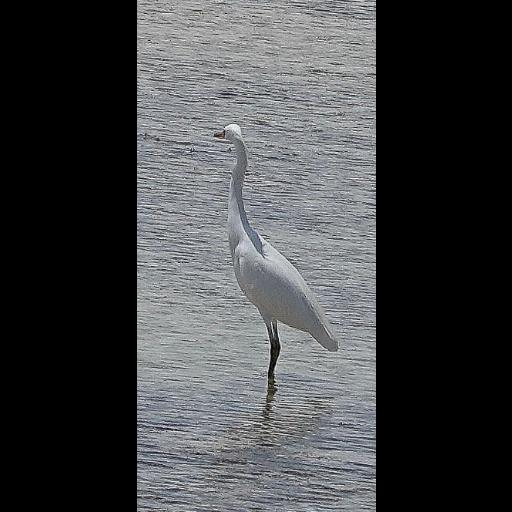chinese_egret: (210, 122, 338, 390)
